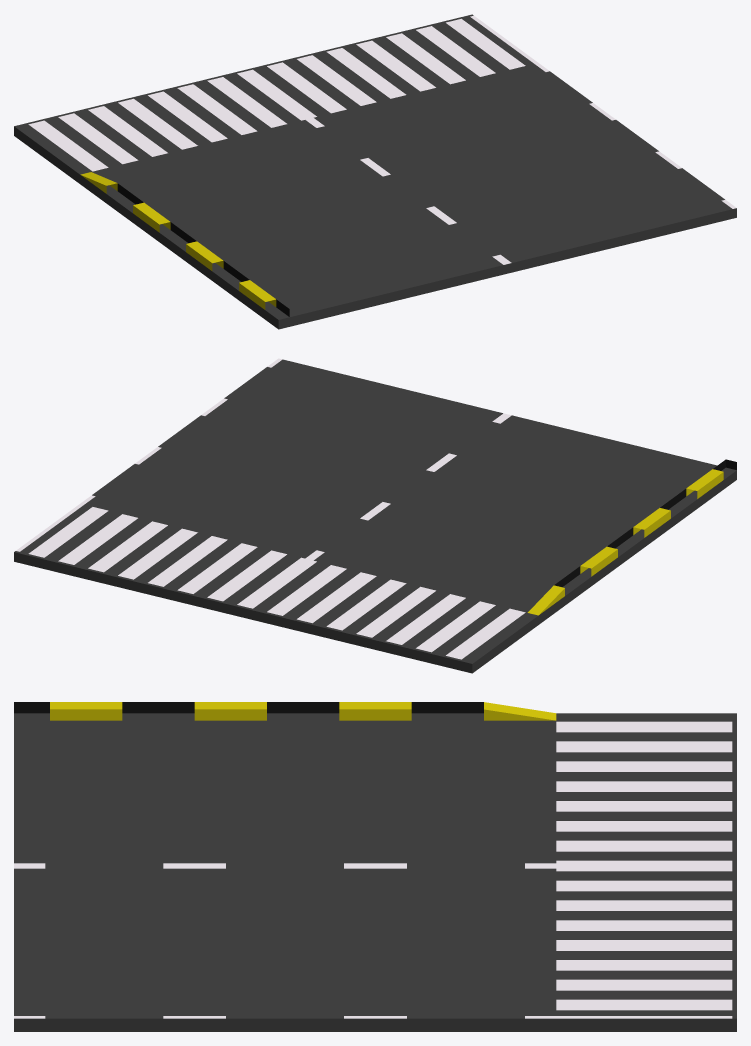
Rendered from major_straight_edge_crosswalk.glb.
The picture shows the model from 3 angles, top to bottom: view 1: azimuth 30°, elevation 25°; view 2: azimuth 150°, elevation 25°; view 3: azimuth 270°, elevation 25°; orthographic projection. The views are drawn at different scales.
Visible parts, largest first — view 1: MajorStraightEdgeCrosswalk; view 2: MajorStraightEdgeCrosswalk; view 3: MajorStraightEdgeCrosswalk.
Boxes of the visible parts, x1,y1,x2,y2 form: MajorStraightEdgeCrosswalk: (14, 14, 736, 329); MajorStraightEdgeCrosswalk: (14, 358, 736, 673); MajorStraightEdgeCrosswalk: (14, 702, 736, 1031).
Size of the model in its own units: 2 by 0.0741 by 2.
